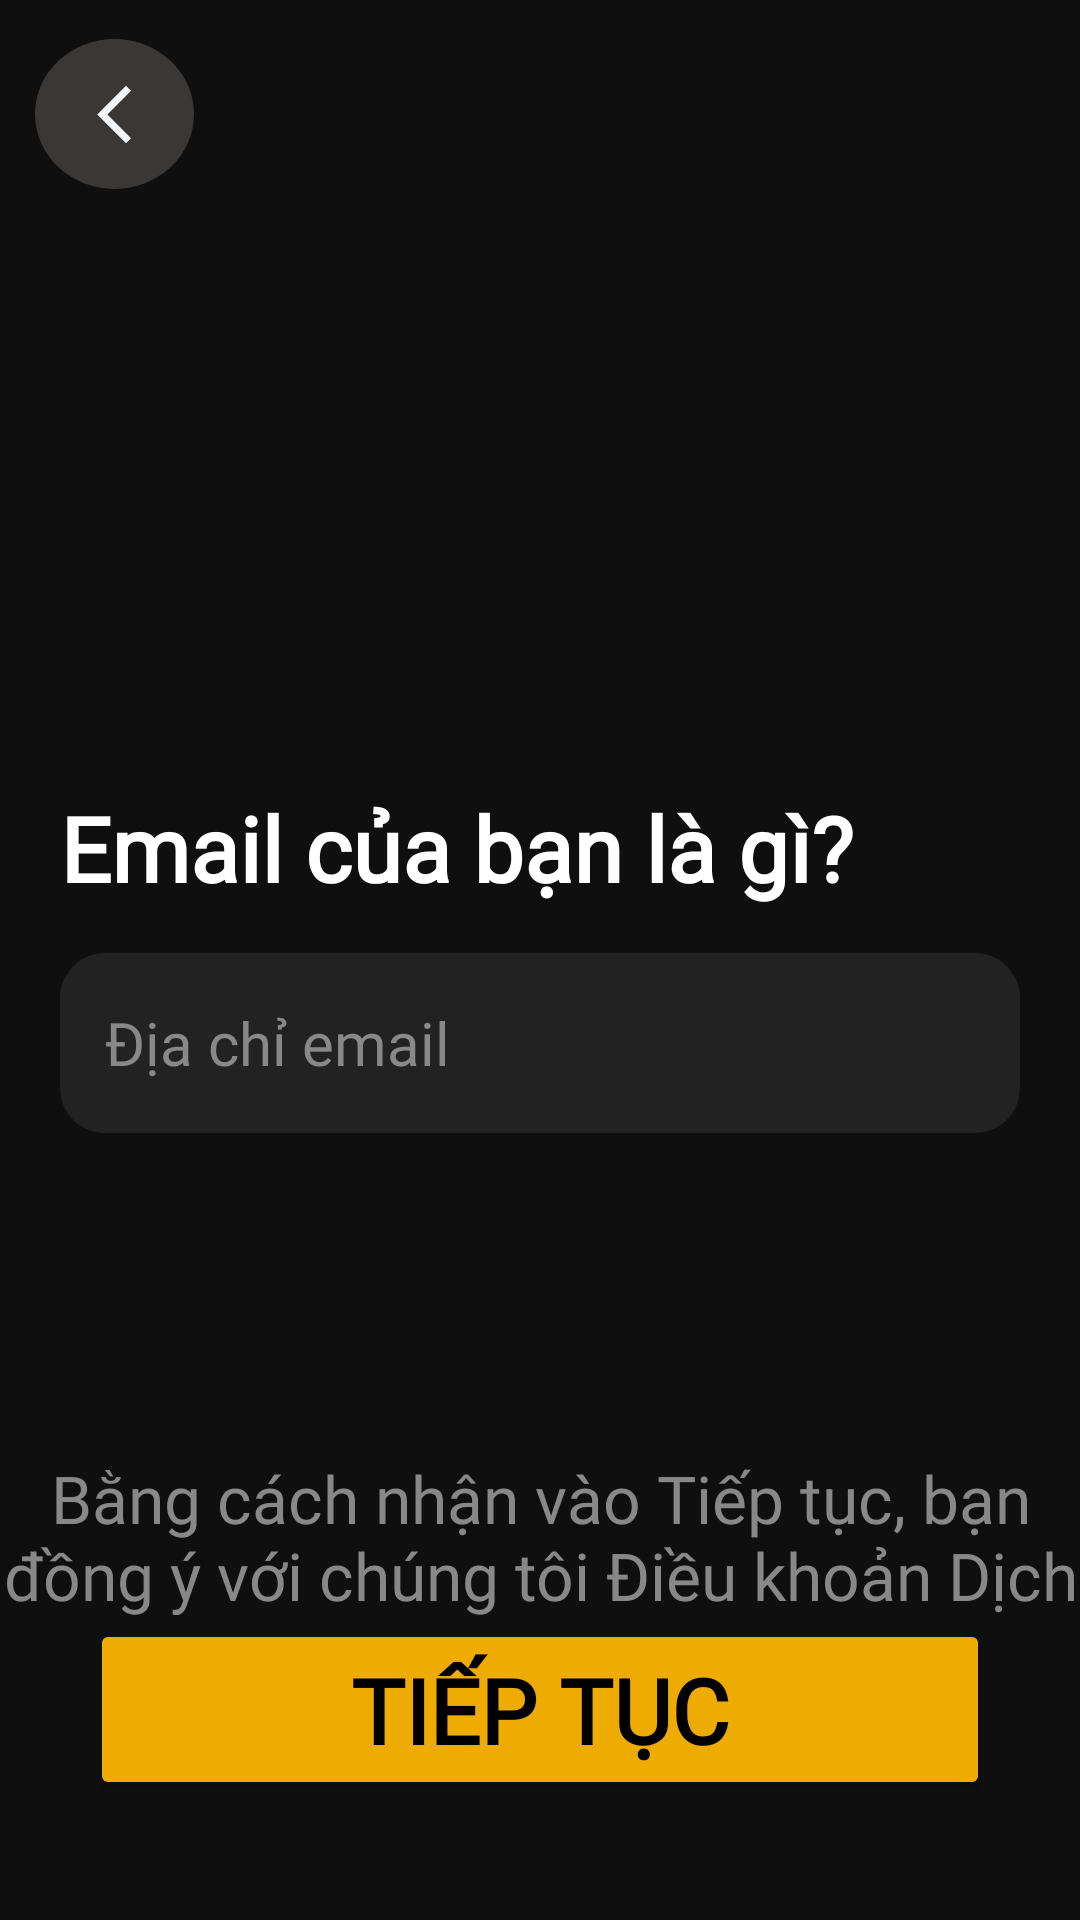

Screen size 1080w x 1920h. Icon name, then its center in pixels as [x,y]:
left arrow: [114,114]
